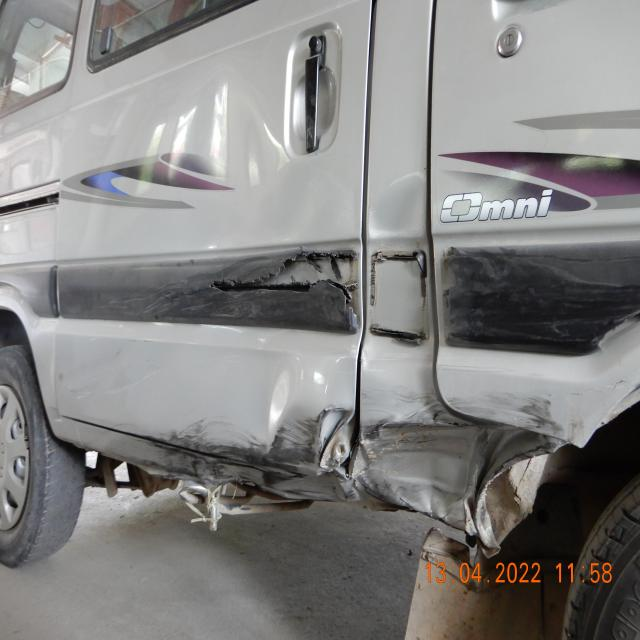damage: (367, 388, 552, 526), (154, 401, 351, 505), (214, 250, 357, 308), (372, 246, 429, 343)
